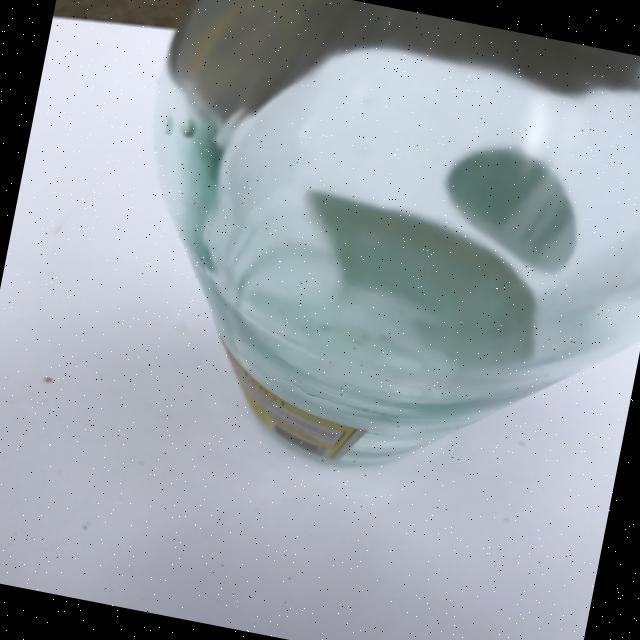glass: (91, 0, 640, 518)
